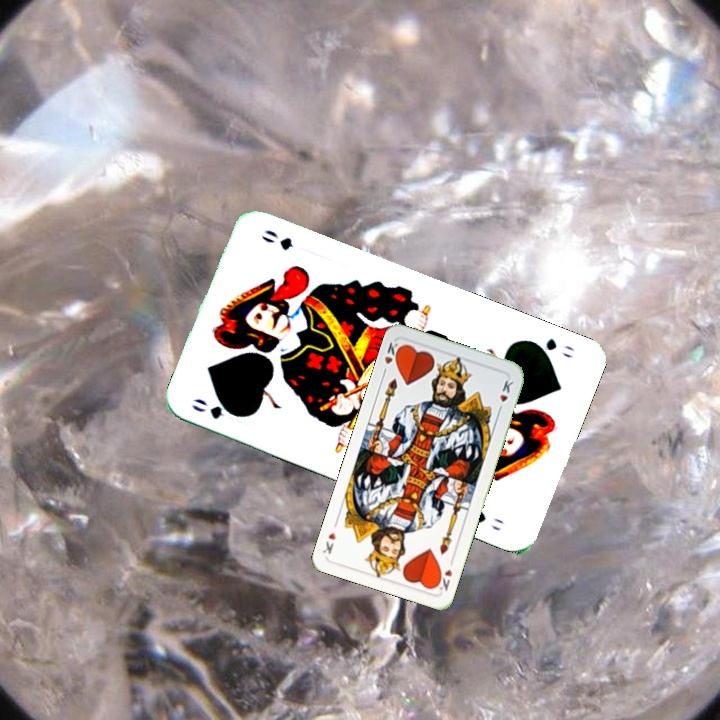GO: (187, 394, 246, 422), (524, 334, 577, 361)
HK: (432, 554, 457, 594), (380, 337, 405, 367)
